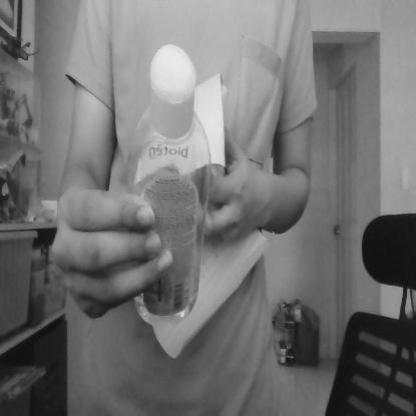Plastic Bottle: (131, 40, 214, 333)
